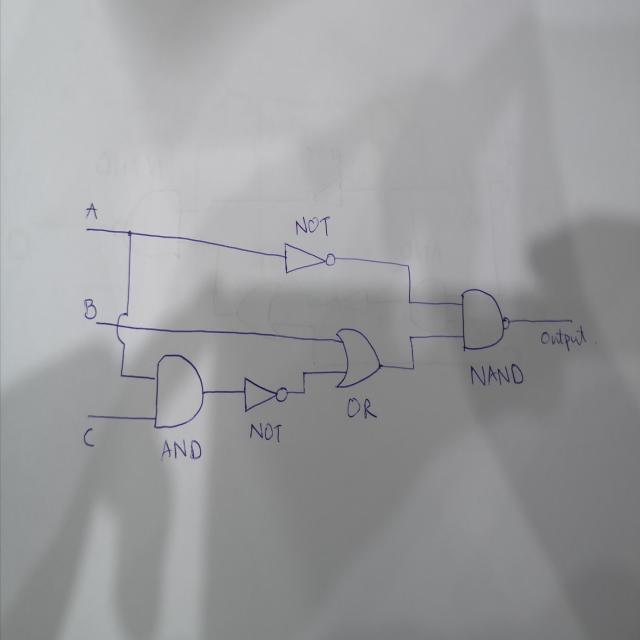crossover: (115, 309, 130, 345)
junction: (117, 368, 126, 381), (125, 226, 134, 239), (404, 260, 412, 270), (406, 296, 412, 307), (407, 332, 413, 342), (410, 363, 416, 372), (300, 369, 306, 376), (301, 388, 306, 396)
terminal: (92, 317, 100, 326), (567, 316, 575, 324), (84, 225, 90, 234), (86, 411, 92, 419)
text: (471, 360, 524, 390), (541, 323, 586, 352), (160, 436, 202, 464), (294, 213, 331, 240), (344, 394, 378, 423), (249, 418, 283, 444), (82, 296, 98, 321), (84, 198, 100, 222), (82, 423, 95, 448)
